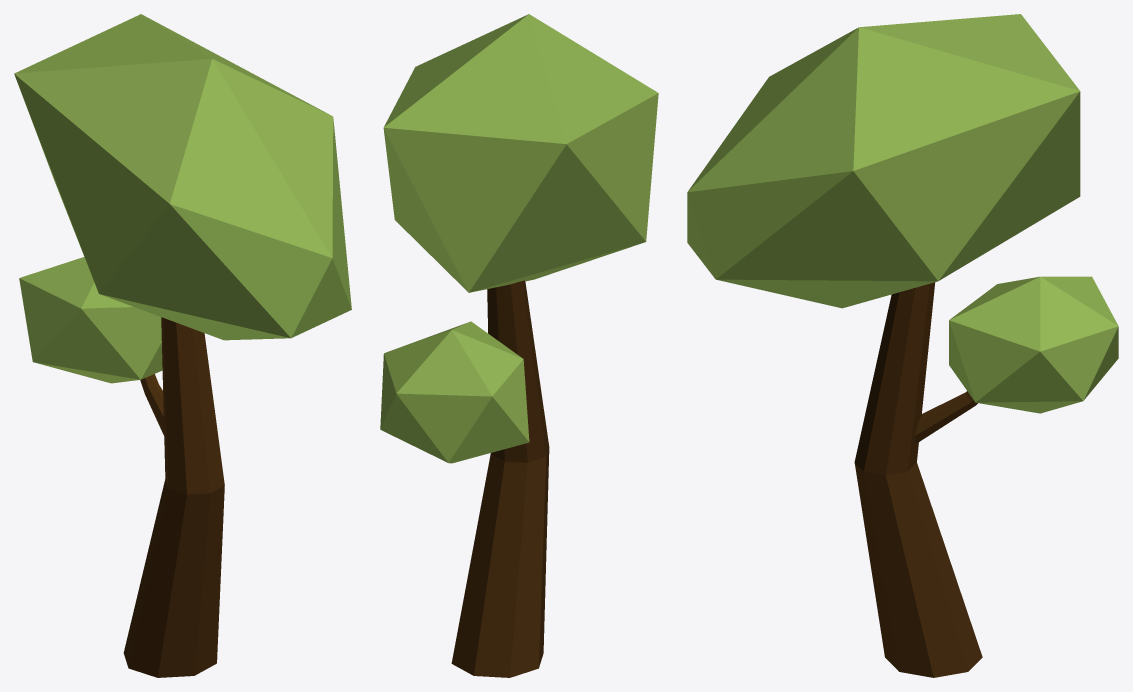
File: tree002.fbx
The picture shows the model from 3 angles, left to right: view 1: azimuth 30°, elevation 25°; view 2: azimuth 150°, elevation 25°; view 3: azimuth 270°, elevation 25°; orthographic projection. The views are drawn at different scales.
Visible parts, largest first — view 1: Icosphere.000; view 2: Icosphere.000; view 3: Icosphere.000.
Part boxes in pixels (x1=…): Icosphere.000: x1=14, y1=14, x2=351, y2=677; Icosphere.000: x1=380, y1=14, x2=658, y2=677; Icosphere.000: x1=687, y1=14, x2=1118, y2=677.
Bounding box in the file's own units: 444 × 1124 × 694.
